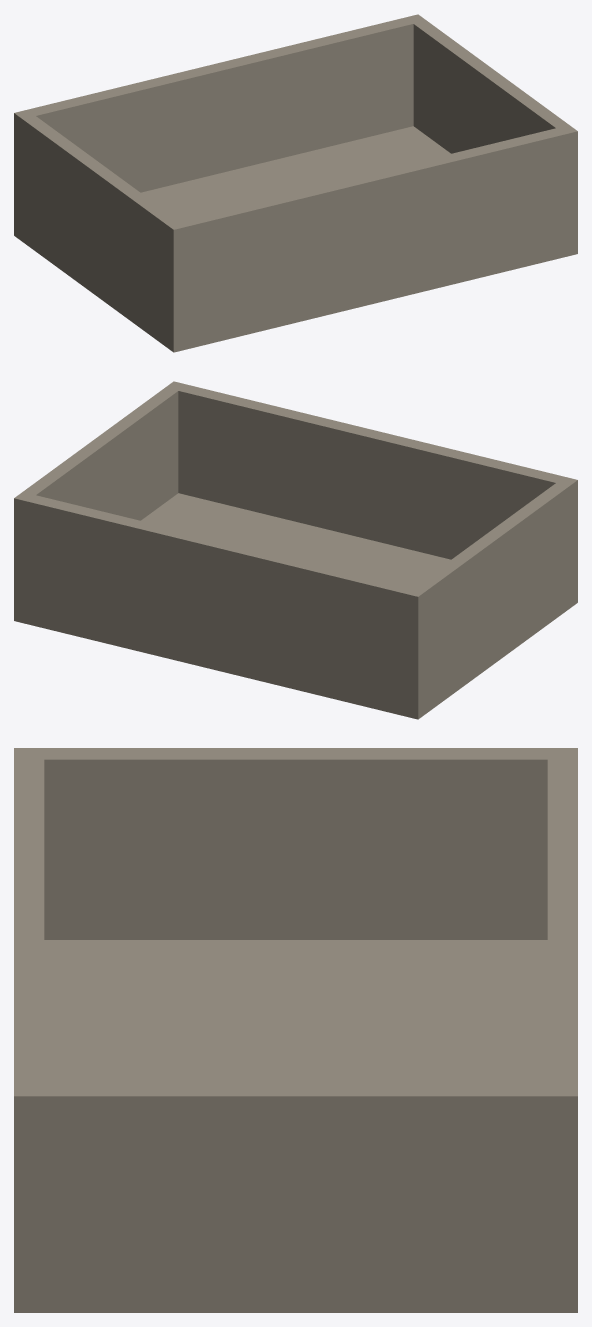
The model's file is rec_4x3.fbx.
The picture shows the model from 3 angles, top to bottom: view 1: azimuth 30°, elevation 25°; view 2: azimuth 150°, elevation 25°; view 3: azimuth 270°, elevation 25°; orthographic projection. The views are drawn at different scales.
Parts seen in each view (by area): view 1: geo_sq_02; view 2: geo_sq_02; view 3: geo_sq_02.
Part boxes in pixels (x1=…): geo_sq_02: x1=14, y1=14, x2=577, y2=352; geo_sq_02: x1=14, y1=381, x2=577, y2=719; geo_sq_02: x1=14, y1=748, x2=577, y2=1312.
Bounding box in the file's own units: 414 × 120 × 283.
